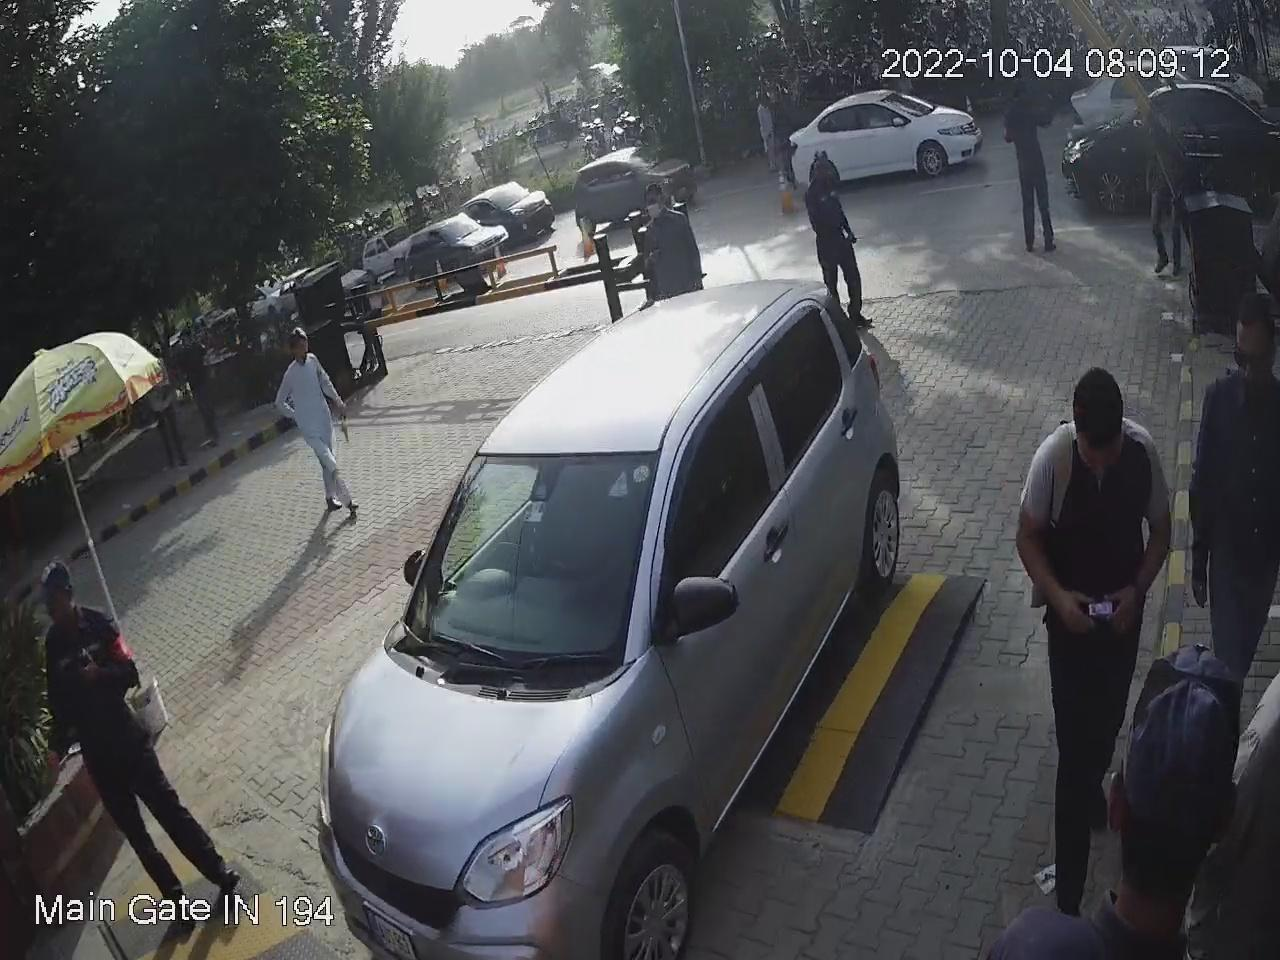windshield: (386, 438, 661, 698)
